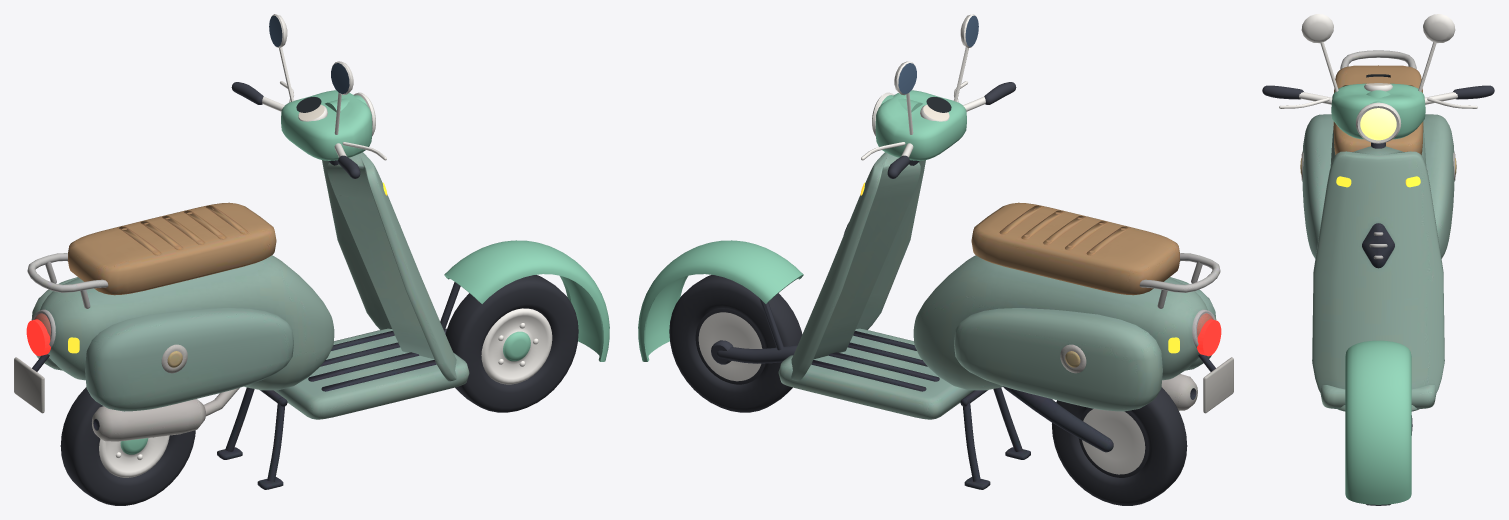
The model's file is scooter.glb.
3 renders of one model, left to right at view 1: azimuth 30°, elevation 25°; view 2: azimuth 150°, elevation 25°; view 3: azimuth 270°, elevation 25°, orthographic. The views are drawn at different scales.
Parts seen in each view (by area): view 1: body, front, wheel_f, wheel_r; view 2: body, front, wheel_f, wheel_r; view 3: body, front.
Part boxes in pixels (left/top/right/bottom): body: left=14, top=152, right=469, bottom=489; front: left=231, top=14, right=609, bottom=361; wheel_f: left=445, top=275, right=578, bottom=412; wheel_r: left=60, top=387, right=195, bottom=505; body: left=778, top=152, right=1233, bottom=489; front: left=638, top=14, right=1016, bottom=364; wheel_f: left=669, top=275, right=802, bottom=412; wheel_r: left=1052, top=387, right=1187, bottom=505; body: left=1300, top=50, right=1456, bottom=411; front: left=1262, top=14, right=1494, bottom=504.
Size of the model in its own units: 1.98 by 1.38 by 0.737.
8 materials, 1 textured.
